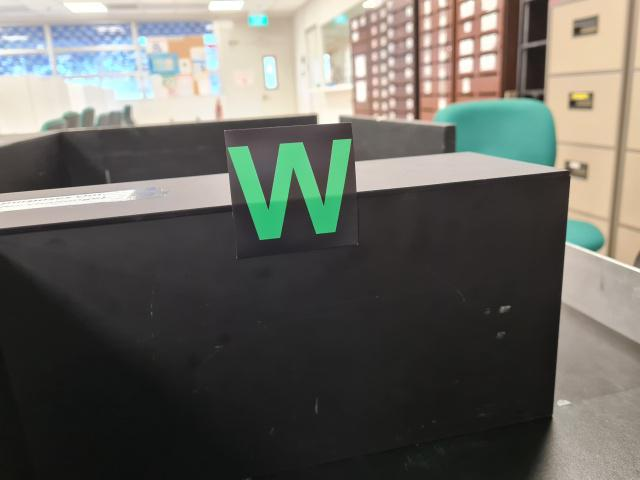w: (225, 122, 359, 257)
